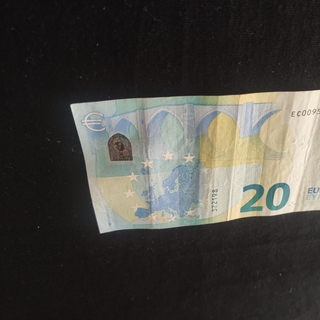20EUROBack: (70, 88, 320, 234)
